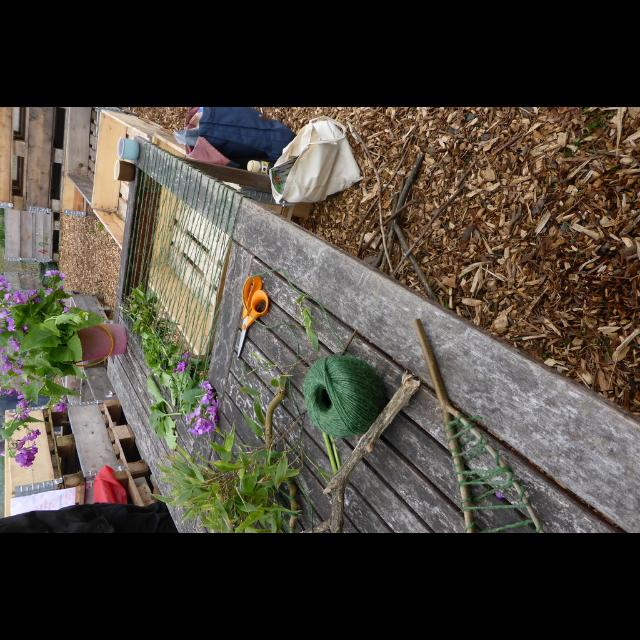Flower: (0, 270, 70, 468), (188, 380, 218, 422), (185, 418, 211, 434), (172, 352, 190, 374)
